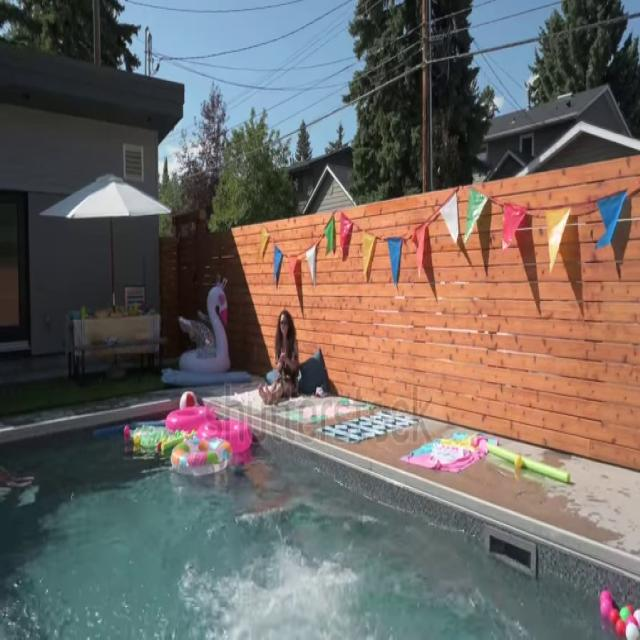adult: (259, 310, 298, 400)
